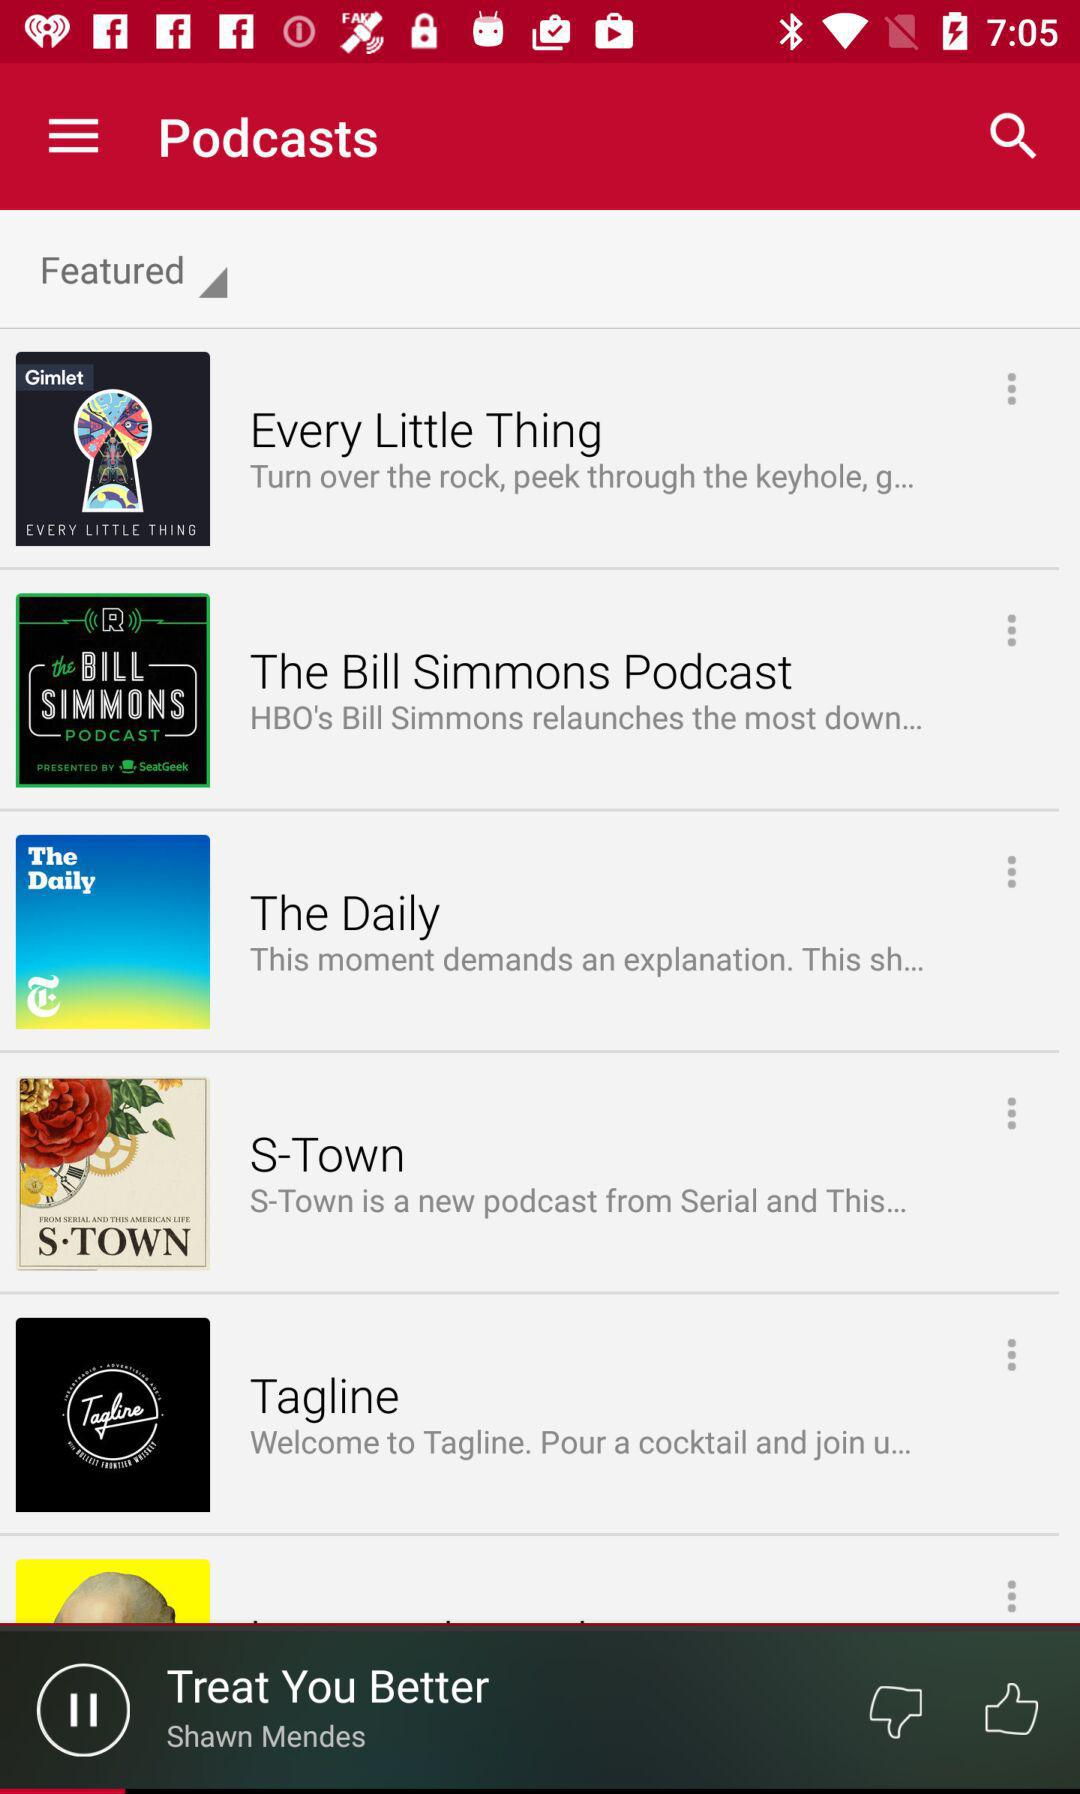Icon: (989, 111, 1036, 160), (49, 118, 101, 155), (199, 267, 229, 300), (1006, 1338, 1017, 1372), (1006, 855, 1017, 889), (1006, 614, 1017, 648), (1006, 373, 1017, 407), (1007, 1577, 1017, 1613), (1007, 1097, 1017, 1132)
Image: (15, 1317, 211, 1512), (15, 835, 211, 1030), (17, 593, 211, 789), (15, 352, 211, 547), (18, 1078, 208, 1271), (15, 1559, 211, 1624), (37, 1663, 131, 1758), (984, 1683, 1040, 1736), (869, 1685, 922, 1740)
Spinner: (42, 256, 229, 300)
Text: (251, 946, 924, 979), (250, 463, 913, 496), (250, 1429, 911, 1462), (251, 1187, 907, 1220), (250, 654, 792, 691), (252, 704, 922, 730), (252, 411, 601, 459), (167, 1668, 489, 1706), (161, 117, 378, 160), (250, 894, 441, 942), (250, 1376, 400, 1424), (252, 1137, 404, 1173), (167, 1724, 366, 1749), (42, 256, 184, 287)
Toolbar: (3, 64, 1080, 211)
UpperTaskBar: (1, 1, 1080, 64)
